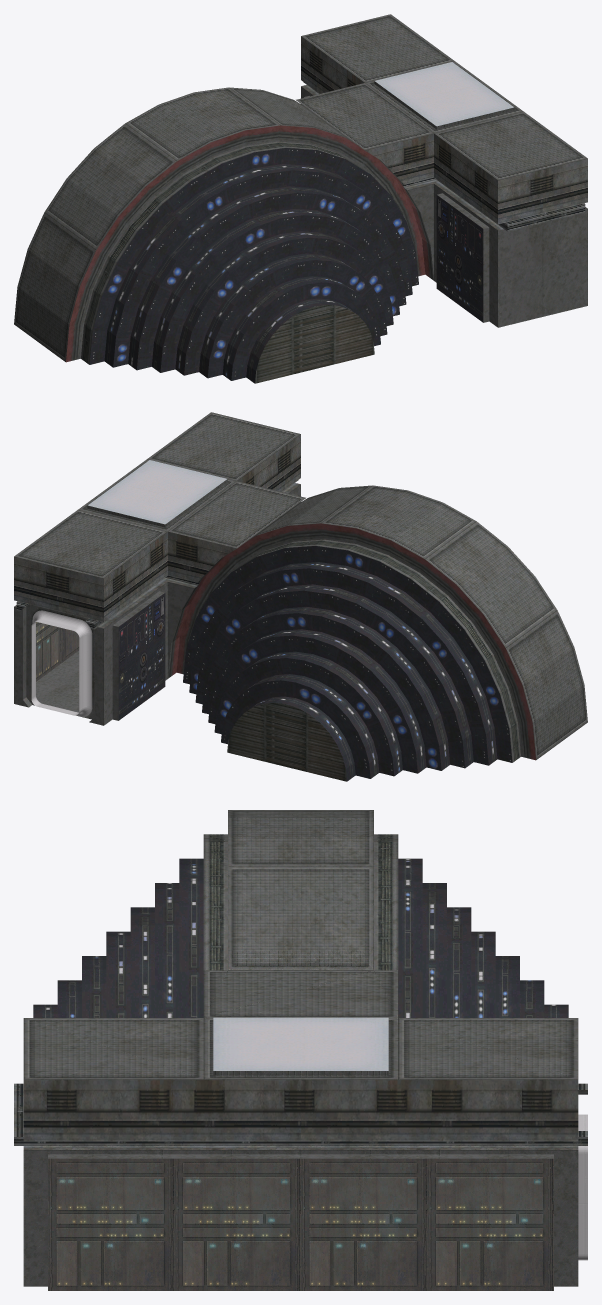
File: thm_spc_corvette_dungeon_r28_thrustersubroom28_mesh_r28.fbx
The picture shows the model from 3 angles, top to bottom: view 1: azimuth 30°, elevation 25°; view 2: azimuth 150°, elevation 25°; view 3: azimuth 270°, elevation 25°; orthographic projection. The views are drawn at different scales.
Visible parts, largest first — view 1: mesh_node; view 2: mesh_node; view 3: mesh_node.
Boxes of the visible parts, x1,y1,x2,y2 form: mesh_node: [14, 14, 587, 383]; mesh_node: [14, 412, 587, 781]; mesh_node: [14, 810, 587, 1290].
Bounding box in the file's own units: 15.2 × 6 × 11.8.
